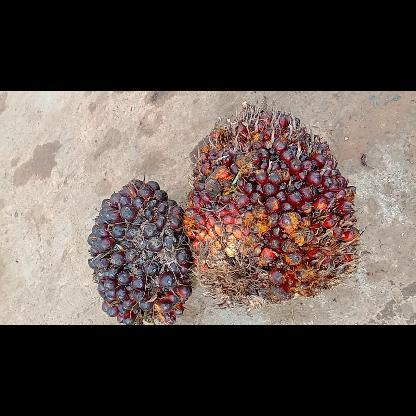TBS masak: (184, 100, 360, 308)
TBS mentah: (87, 172, 193, 324)
